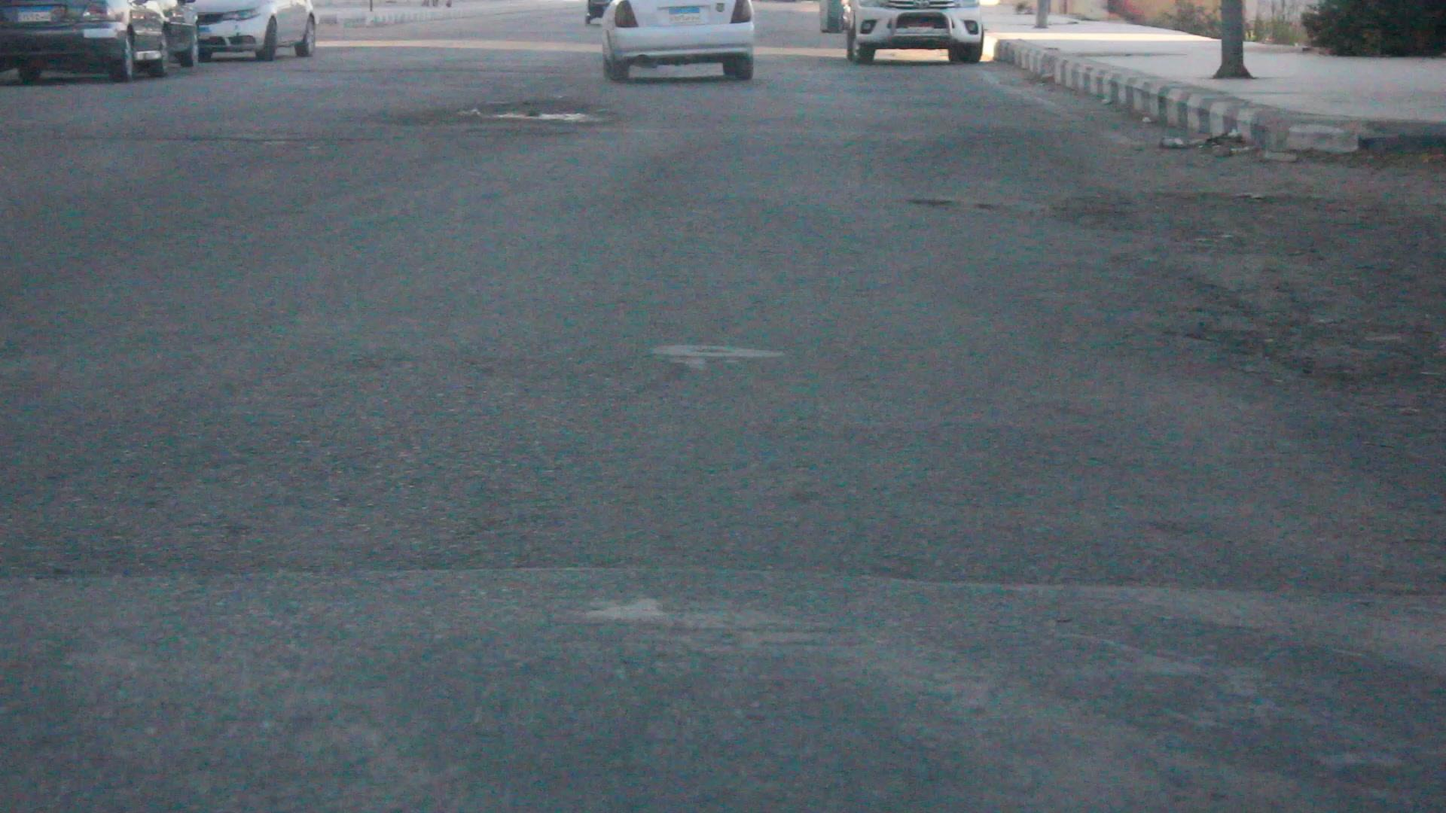Bump: (0, 577, 1445, 812)
Pothole: (1011, 189, 1353, 260), (402, 101, 601, 123)
